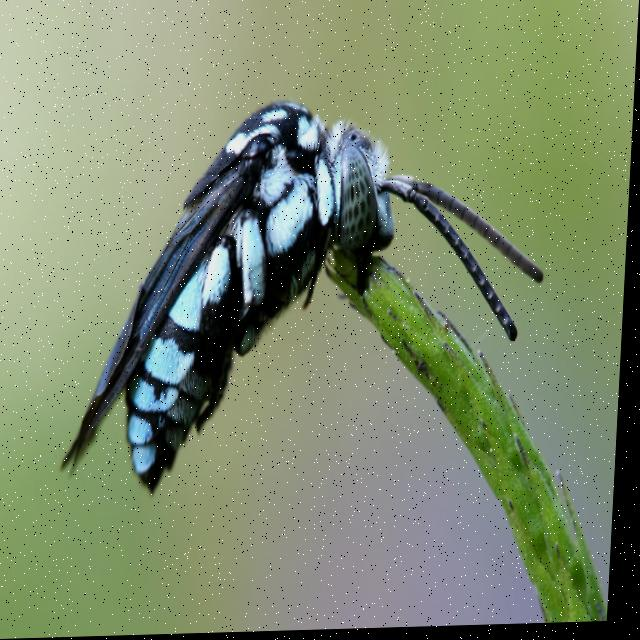Thyreus: (57, 76, 558, 513)
